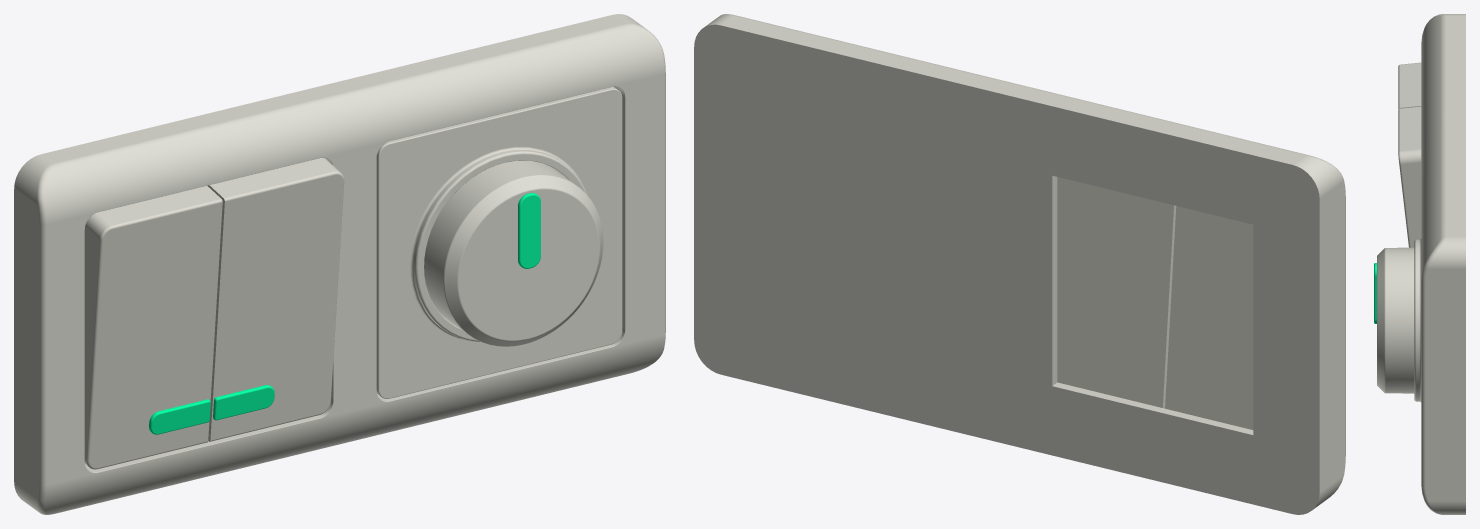
Rendered from x2_EXAMPLE.FBX.
3 views of the same model, side by side, from view 1: azimuth 30°, elevation 25°; view 2: azimuth 150°, elevation 25°; view 3: azimuth 270°, elevation 25° (orthographic). The views are drawn at different scales.
Parts seen in each view (by area): view 1: x2_FRAME, TEMPERATURE_CONTROLLER_BASE_EXMPL, SWITCH_DOUBLE_L_EXMPL, SWITCH_DOUBLE_R_EXMPL, TEMPERATURE_CONTROLLER_EXMPL, TEMPERATURE_CONTROLLER_ILLUMINATION_EXMPL, POWER_SWITCH_ILLUMINATION_R_EXMPL, POWER_SWITCH_ILLUMINATION_L_EXMPL; view 2: x2_FRAME, TEMPERATURE_CONTROLLER_BASE_EXMPL, SWITCH_DOUBLE_R_EXMPL, SWITCH_DOUBLE_L_EXMPL; view 3: x2_FRAME, TEMPERATURE_CONTROLLER_EXMPL, SWITCH_DOUBLE_R_EXMPL, TEMPERATURE_CONTROLLER_BASE_EXMPL, SWITCH_DOUBLE_L_EXMPL, TEMPERATURE_CONTROLLER_ILLUMINATION_EXMPL.
Part boxes in pixels (x1,y1,x2,y2): x2_FRAME: (14, 14, 665, 514); TEMPERATURE_CONTROLLER_BASE_EXMPL: (376, 86, 622, 398); SWITCH_DOUBLE_L_EXMPL: (84, 186, 222, 469); SWITCH_DOUBLE_R_EXMPL: (207, 157, 344, 441); TEMPERATURE_CONTROLLER_EXMPL: (424, 160, 603, 346); TEMPERATURE_CONTROLLER_ILLUMINATION_EXMPL: (518, 193, 540, 268); POWER_SWITCH_ILLUMINATION_R_EXMPL: (213, 385, 274, 420); POWER_SWITCH_ILLUMINATION_L_EXMPL: (149, 399, 210, 434); x2_FRAME: (694, 14, 1345, 514); TEMPERATURE_CONTROLLER_BASE_EXMPL: (739, 79, 983, 389); SWITCH_DOUBLE_R_EXMPL: (1057, 177, 1176, 408); SWITCH_DOUBLE_L_EXMPL: (1165, 206, 1253, 429); x2_FRAME: (1421, 14, 1465, 514); TEMPERATURE_CONTROLLER_EXMPL: (1377, 247, 1414, 393); SWITCH_DOUBLE_R_EXMPL: (1398, 106, 1421, 247); TEMPERATURE_CONTROLLER_BASE_EXMPL: (1414, 239, 1421, 402); SWITCH_DOUBLE_L_EXMPL: (1398, 62, 1421, 109); TEMPERATURE_CONTROLLER_ILLUMINATION_EXMPL: (1374, 263, 1376, 323).
Bounding box in the file's own units: 14.1 × 7.52 × 2.27.
